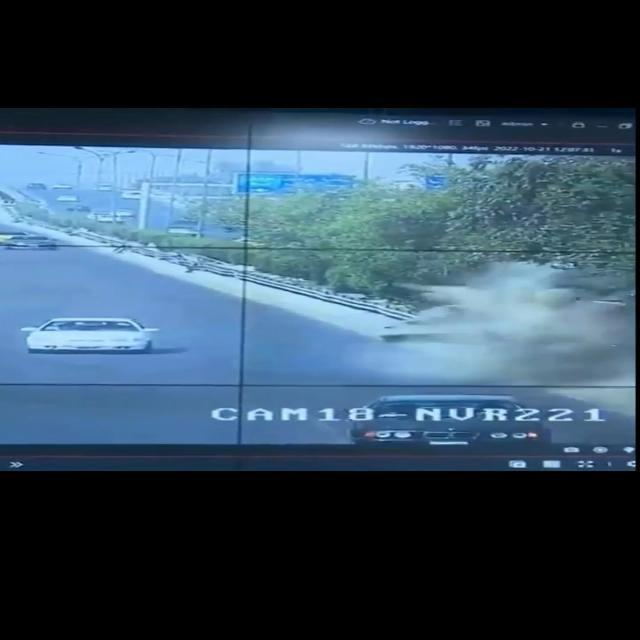accident: (358, 263, 640, 369)
non_accident: (10, 282, 152, 366), (0, 190, 63, 270)
